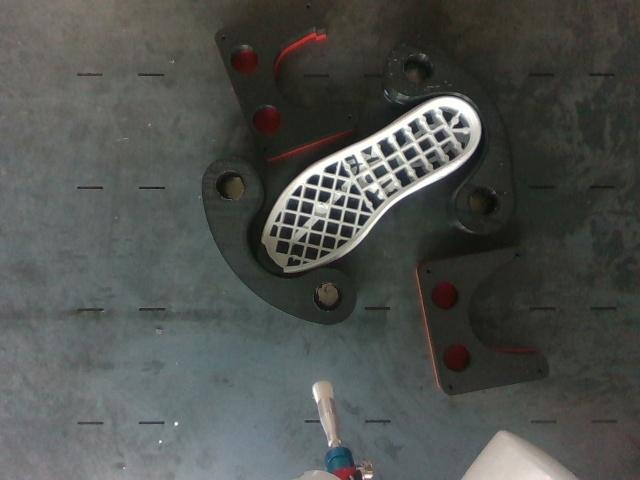shoes: (259, 97, 480, 273)
